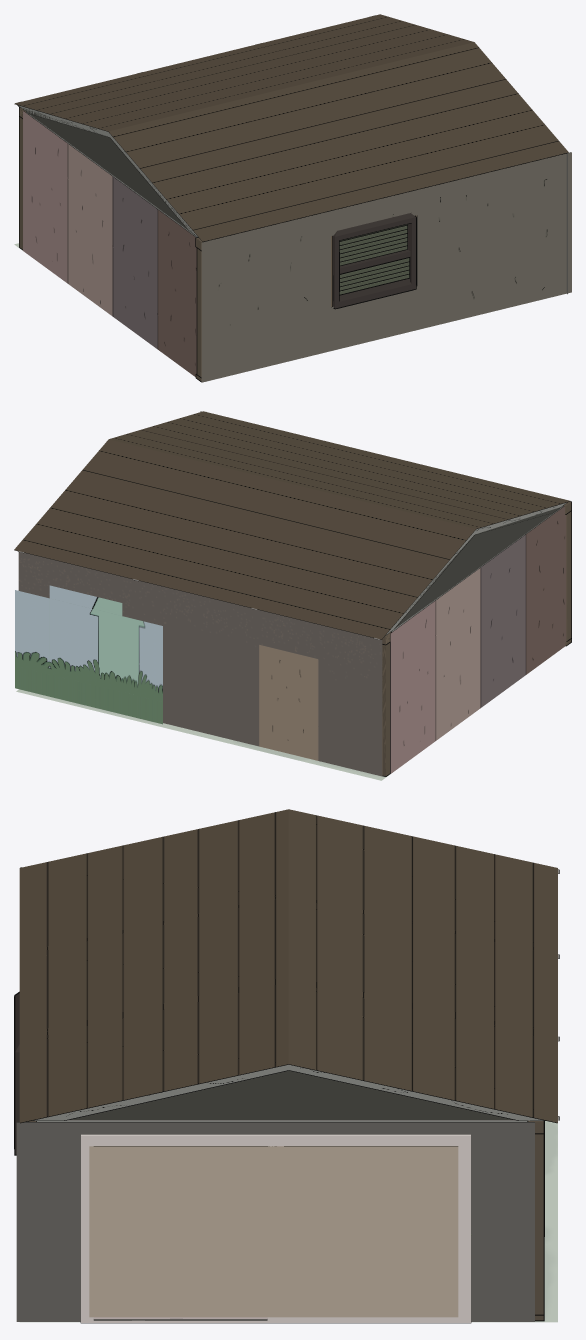
Rendered from rick-and-morty-garage.glb.
3 renders of one model, top to bottom at view 1: azimuth 30°, elevation 25°; view 2: azimuth 150°, elevation 25°; view 3: azimuth 270°, elevation 25°, orthographic. The views are drawn at different scales.
Parts seen in each view (by area): view 1: Ceiling, Wall, Wood.001, Wood; view 2: Ceiling, Wall, Background, Floor, Wood, Wood.001; view 3: Ceiling, Wall, Floor, Wood, Wood.001.
Boxes of the visible parts, x1,y1,x2,y2 form: Ceiling: (14,14,568,241); Wall: (23,111,571,382); Wood.001: (195,213,416,382); Wood: (19,107,25,250); Ceiling: (14,411,570,639); Wall: (18,411,566,776); Background: (15,585,162,724); Floor: (16,689,390,780); Wood: (382,631,391,776); Wood.001: (563,501,571,646); Ceiling: (19,809,559,1123); Wall: (16,1122,534,1323); Floor: (20,1121,557,1322); Wood: (527,1120,544,1321); Wood.001: (14,867,36,1155).
Bounding box in the file's own units: 8.55 × 4.02 × 7.82.
Materials: 9 (8 with a texture image).
